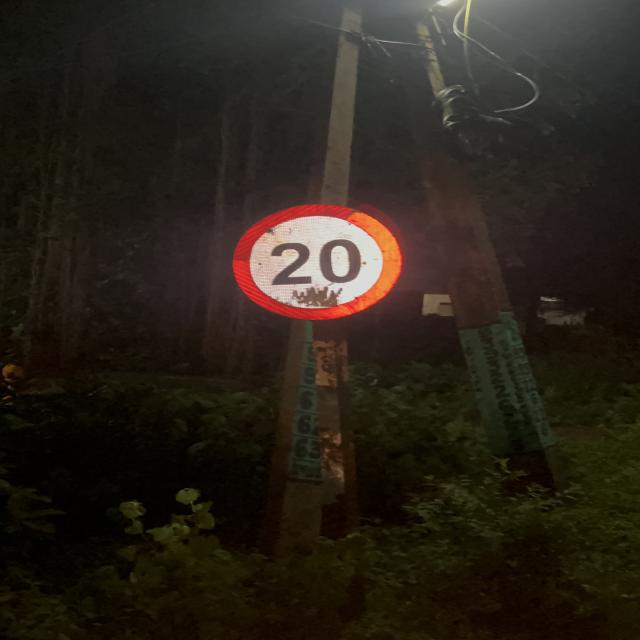speedlimit_20: (240, 202, 400, 320)
